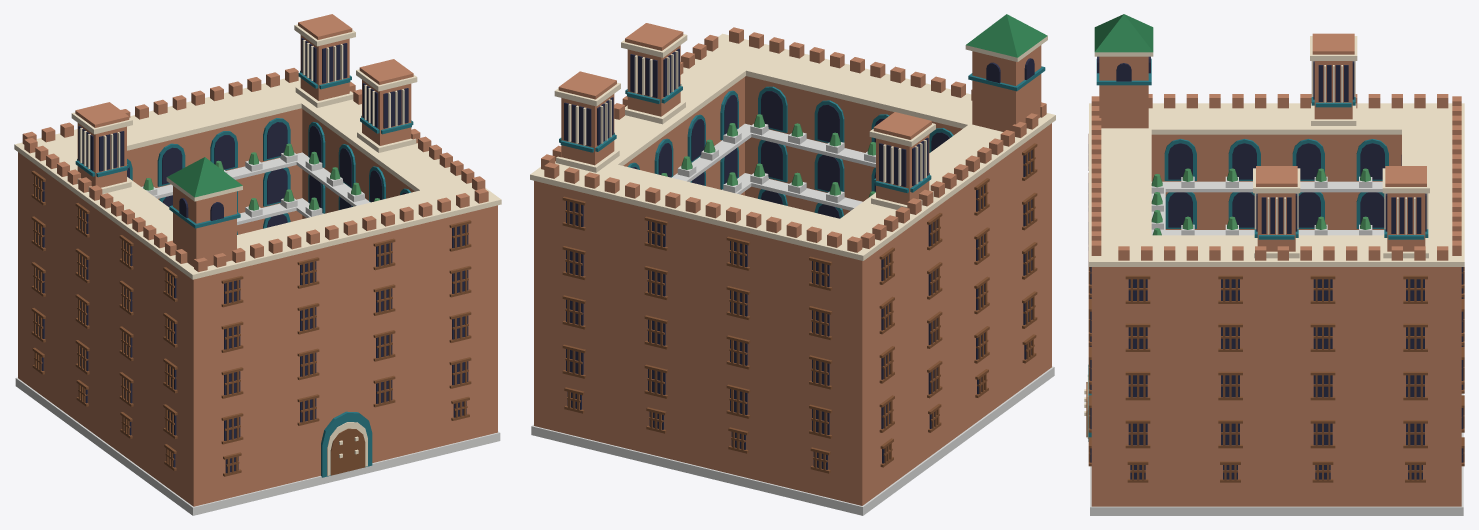
Rendered from house-2x2-5f-riad-a.glb.
The picture shows the model from 3 angles, left to right: view 1: azimuth 30°, elevation 25°; view 2: azimuth 150°, elevation 25°; view 3: azimuth 270°, elevation 25°; orthographic projection. The views are drawn at different scales.
Parts seen in each view (by area): view 1: house-2x2-5f-riad-a; view 2: house-2x2-5f-riad-a; view 3: house-2x2-5f-riad-a.
Part boxes in pixels (x1=…): house-2x2-5f-riad-a: x1=14, y1=14, x2=501, y2=515; house-2x2-5f-riad-a: x1=530, y1=14, x2=1055, y2=515; house-2x2-5f-riad-a: x1=1084, y1=14, x2=1464, y2=515.
Bounding box in the file's own units: 1.98 × 2.09 × 2.01.
Materials: 1 (1 with a texture image).
